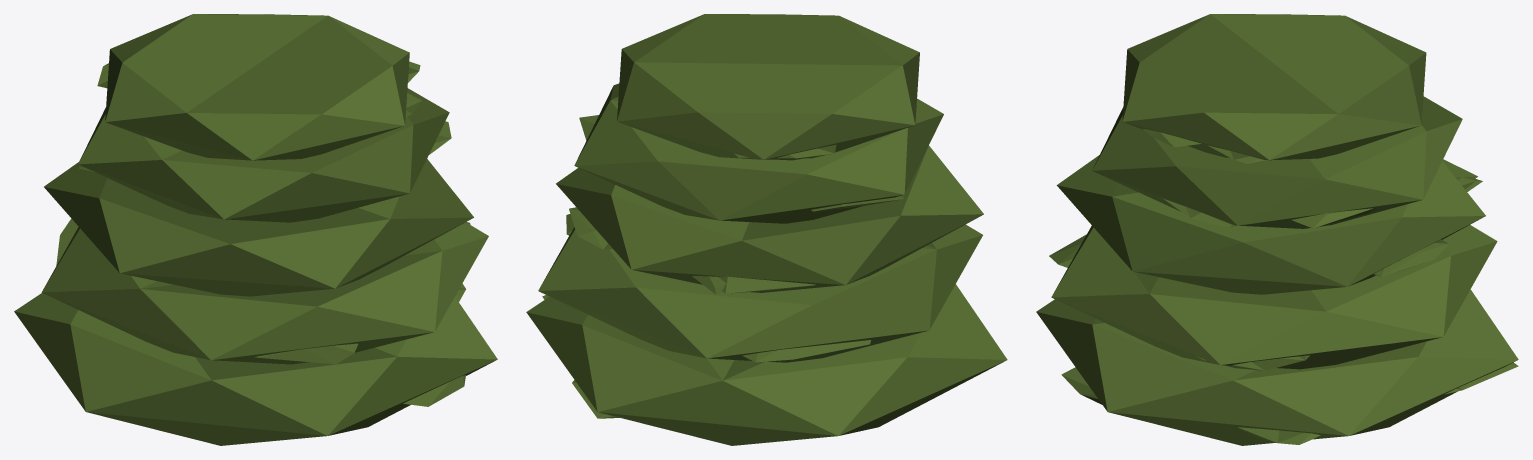
Rendered from Leaves_C.glb.
3 views of the same model, side by side, from view 1: azimuth 30°, elevation 25°; view 2: azimuth 150°, elevation 25°; view 3: azimuth 270°, elevation 25° (orthographic).
Visible parts, largest first — view 1: Leaves; view 2: Leaves; view 3: Leaves.
Boxes of the visible parts, x1,y1,x2,y2 form: Leaves: (14,14,497,445); Leaves: (526,14,1007,445); Leaves: (1036,14,1518,445).
Bounding box in the file's own units: 16.14 × 11.7 × 16.07.
